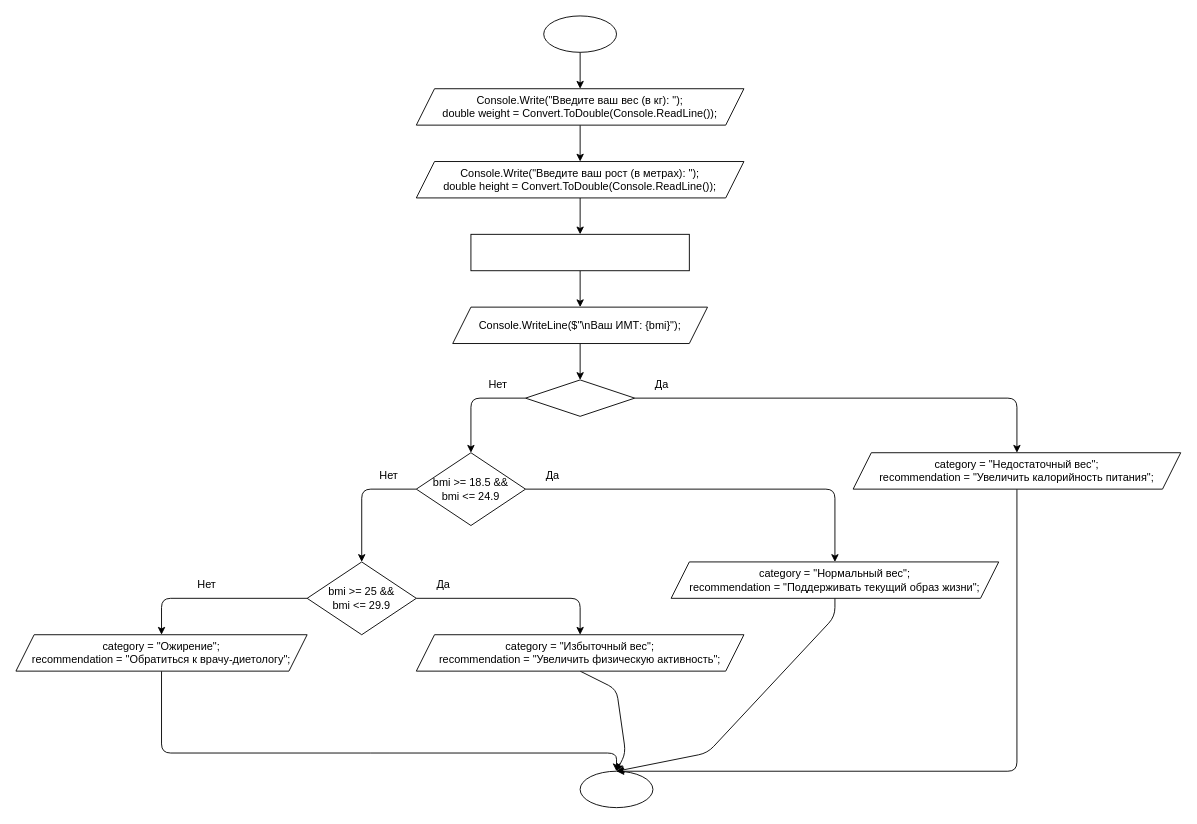
Image size: 1197x824. Some labels were removed from this diagram. Each missing label, with the centre of its shape:
bmi < 18.5: [580,397]
double bmi = weight / (height * height); bmi = Math.Round(bmi, 1);: [579,252]
Конец: [616,789]
Начало: [580,33]
